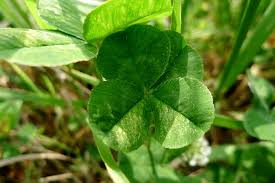4-clover: (91, 28, 214, 148)
